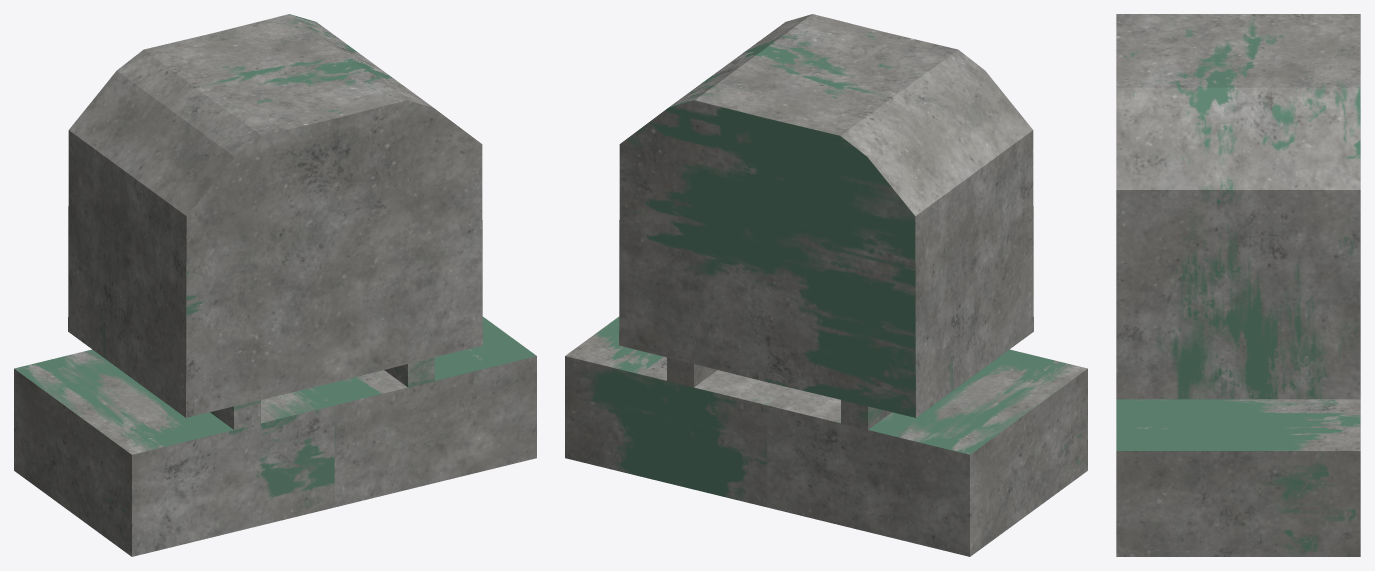
Rendered from Gravestone_Ready.fbx.
3 views of the same model, side by side, from view 1: azimuth 30°, elevation 25°; view 2: azimuth 150°, elevation 25°; view 3: azimuth 270°, elevation 25° (orthographic). The views are drawn at different scales.
Parts seen in each view (by area): view 1: Gravestone; view 2: Gravestone; view 3: Gravestone.
Part boxes in pixels (x1,y1,x2,y2): Gravestone: (14,14,536,556); Gravestone: (565,14,1087,556); Gravestone: (1116,14,1360,556).
Bounding box in the file's own units: 397 × 364 × 200.
